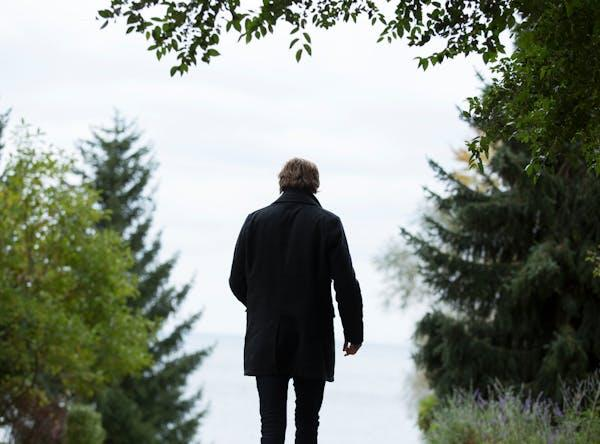Human: (229, 154, 371, 444)
